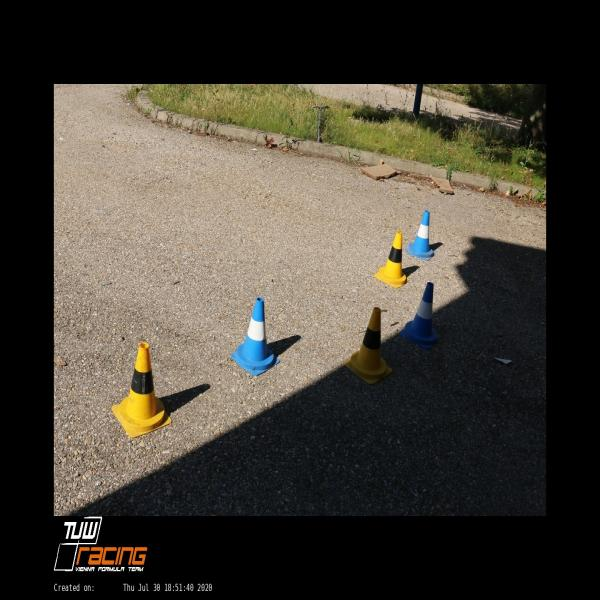blue_cone: (230, 296, 280, 377), (401, 282, 441, 349), (406, 211, 436, 261)
yellow_cone: (111, 342, 172, 438), (344, 307, 392, 385), (373, 231, 410, 287)
